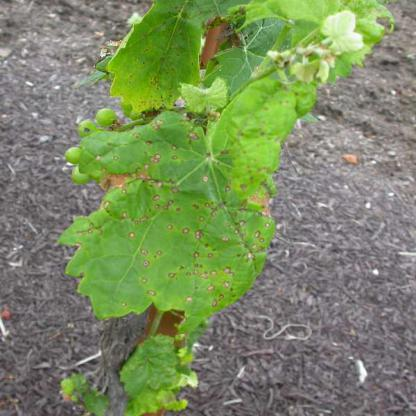grape leaf black rot: (42, 76, 308, 351), (101, 1, 218, 115)
